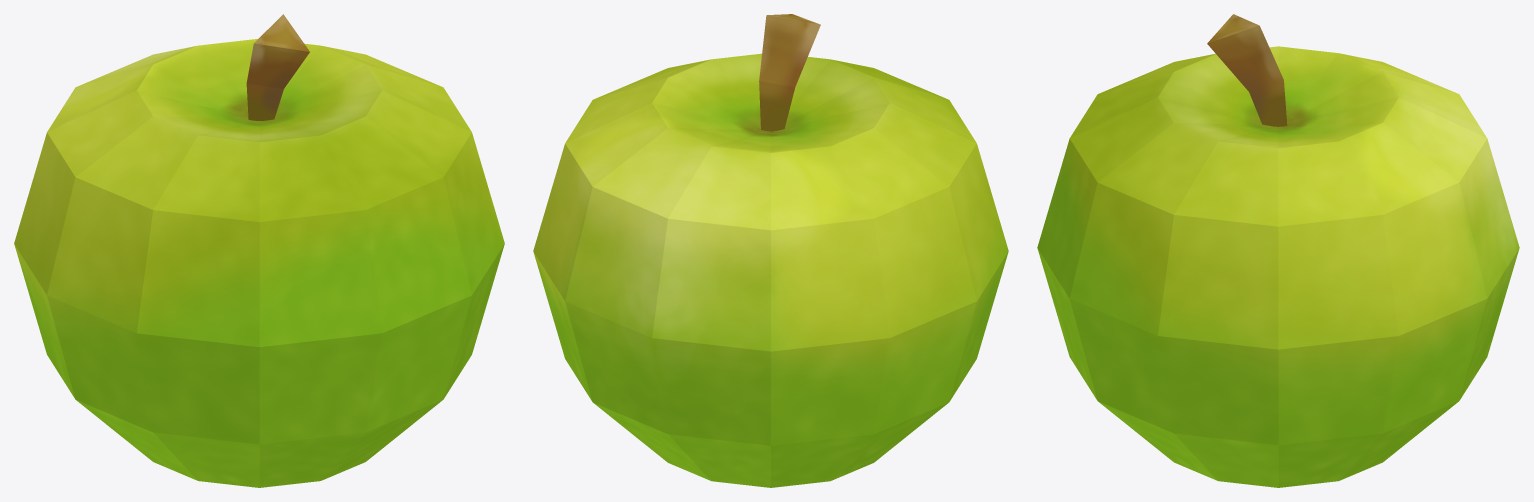
File: green_apple.gltf
3 views of the same model, side by side, from view 1: azimuth 30°, elevation 25°; view 2: azimuth 150°, elevation 25°; view 3: azimuth 270°, elevation 25° (orthographic). The views are drawn at different scales.
Parts seen in each view (by area): view 1: fruis_and_vegetables.034; view 2: fruis_and_vegetables.034; view 3: fruis_and_vegetables.034.
Boxes of the visible parts, box(x1,y1,x2,y2) form: fruis_and_vegetables.034: box(14, 14, 504, 487); fruis_and_vegetables.034: box(533, 14, 1008, 487); fruis_and_vegetables.034: box(1037, 14, 1519, 487).
Size of the model in its own units: 0.1467 by 0.1403 by 0.1467.
1 material, 1 textured.
